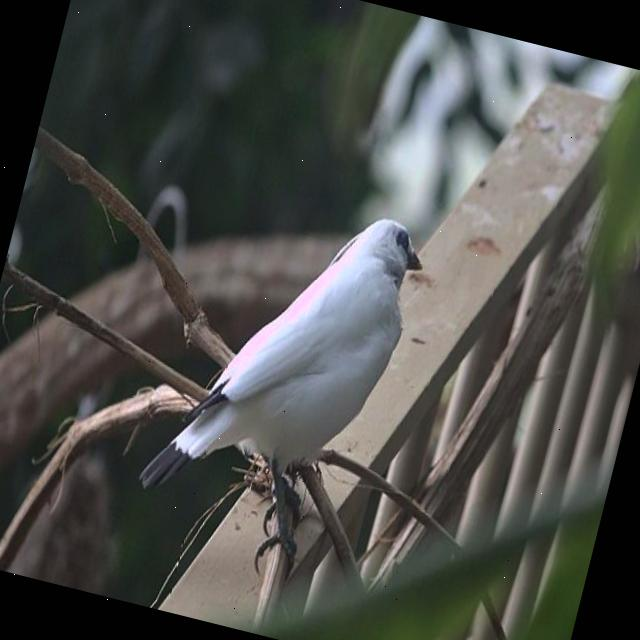Jalak Bali: (79, 132, 466, 619)
